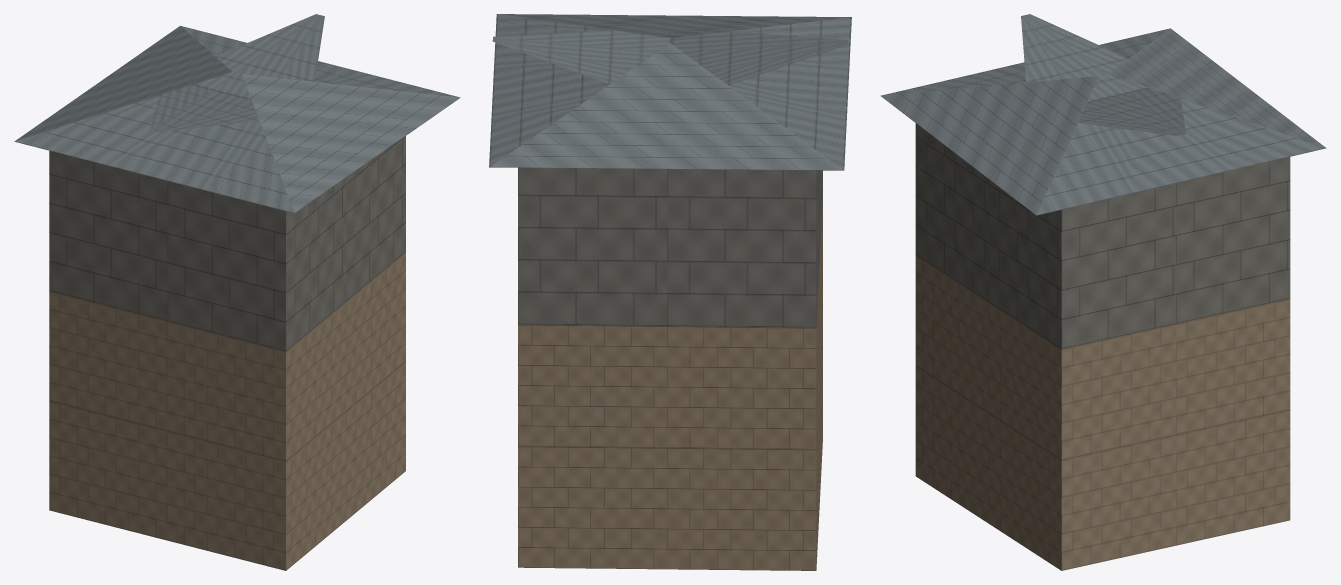
Rendered from bld_c-15_-15_769.gltf.
3 views of the same model, side by side, from view 1: azimuth 30°, elevation 25°; view 2: azimuth 150°, elevation 25°; view 3: azimuth 270°, elevation 25° (orthographic). The views are drawn at different scales.
Parts seen in each view (by area): view 1: bld_c-15_-15_769; view 2: bld_c-15_-15_769; view 3: bld_c-15_-15_769.
Part boxes in pixels (bbox=[...]): bld_c-15_-15_769: bbox=[14, 14, 460, 570]; bld_c-15_-15_769: bbox=[489, 14, 851, 570]; bld_c-15_-15_769: bbox=[880, 14, 1325, 570].
Bounding box in the file's own units: 8.55 × 9 × 8.6.
Materials: 3 (3 with a texture image).
